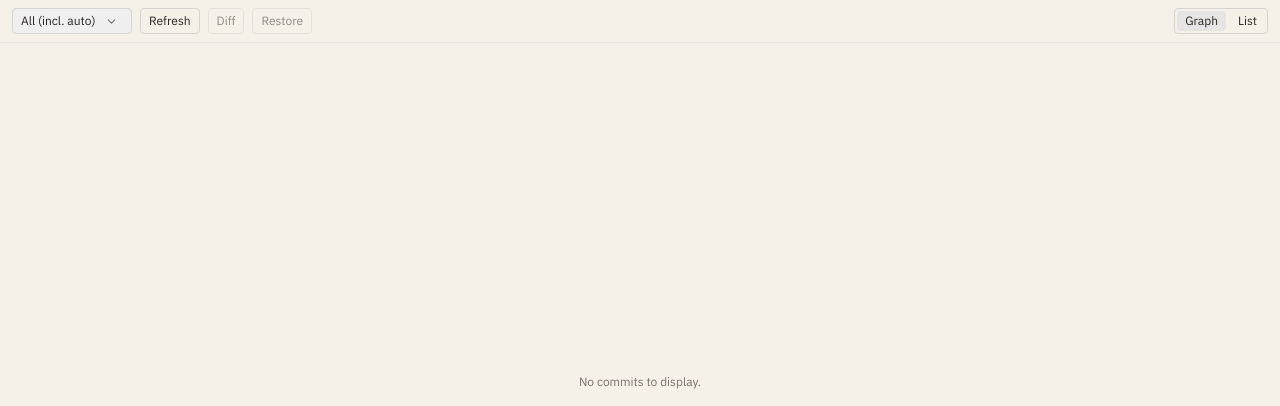
GitHistoryList › #1400 top-toolbar Diff/Restore › selecting a different row updates the toolbar's selection indicator
Click the button with test id "git-history-view-list". click: (1248, 21)
box: [1230, 11, 1265, 31]
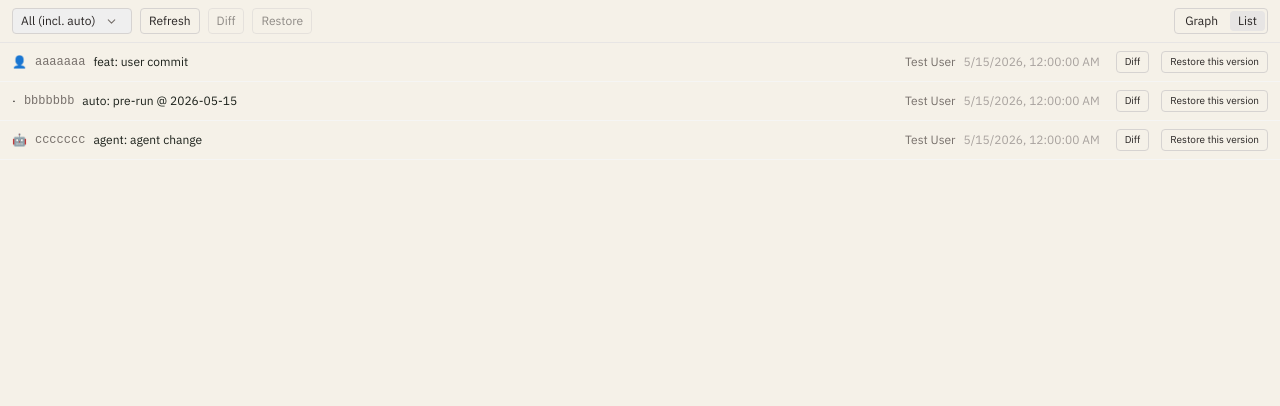
Click the list item that starts with "aaaaaaa". click: (640, 62)
box: [0, 43, 1279, 82]
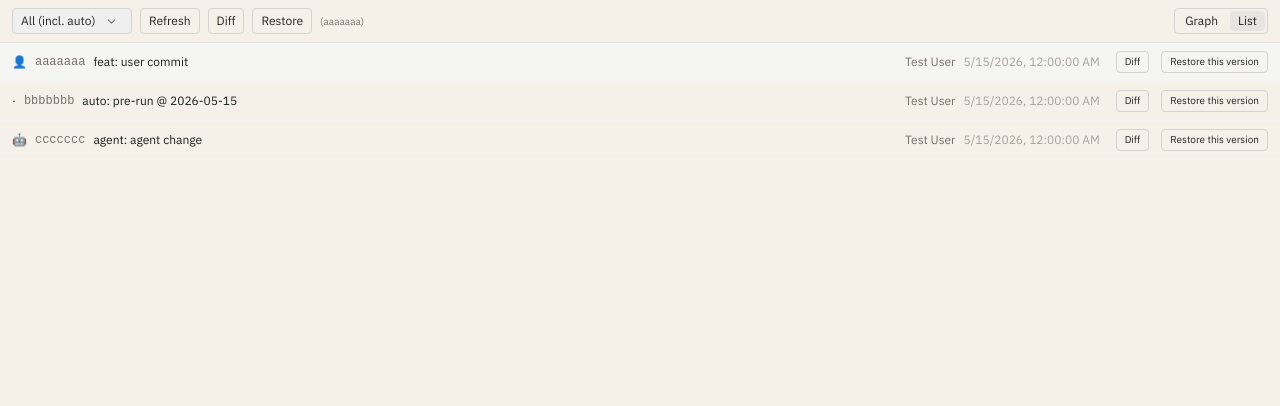
Check: the text with test id "git-history-toolbar-selection" shows "aaaaaaa", box [324, 14, 361, 28]
Click the list item that starts with "bbbbbbb". click: (640, 102)
box: [0, 82, 1279, 121]
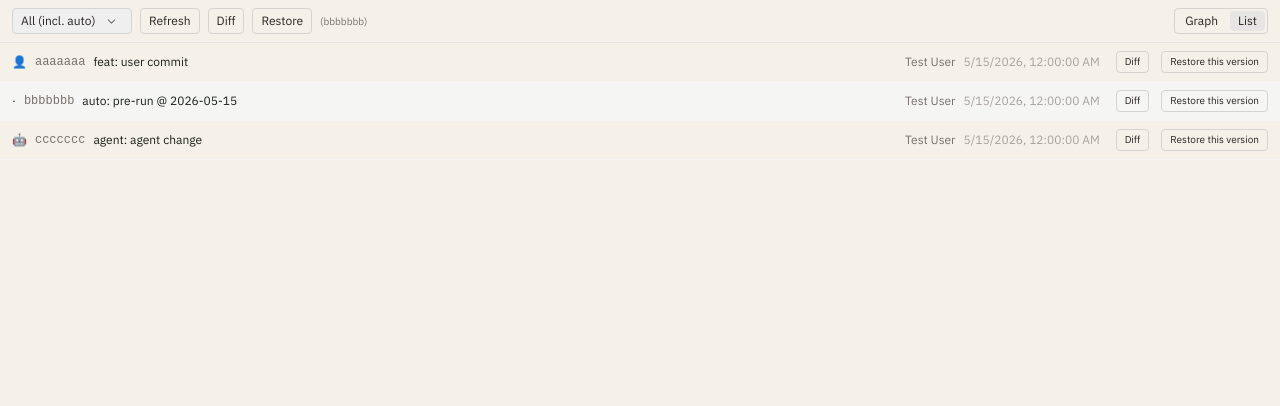
Check: the text with test id "git-history-toolbar-selection" shows "bbbbbbb", box [324, 14, 364, 28]
